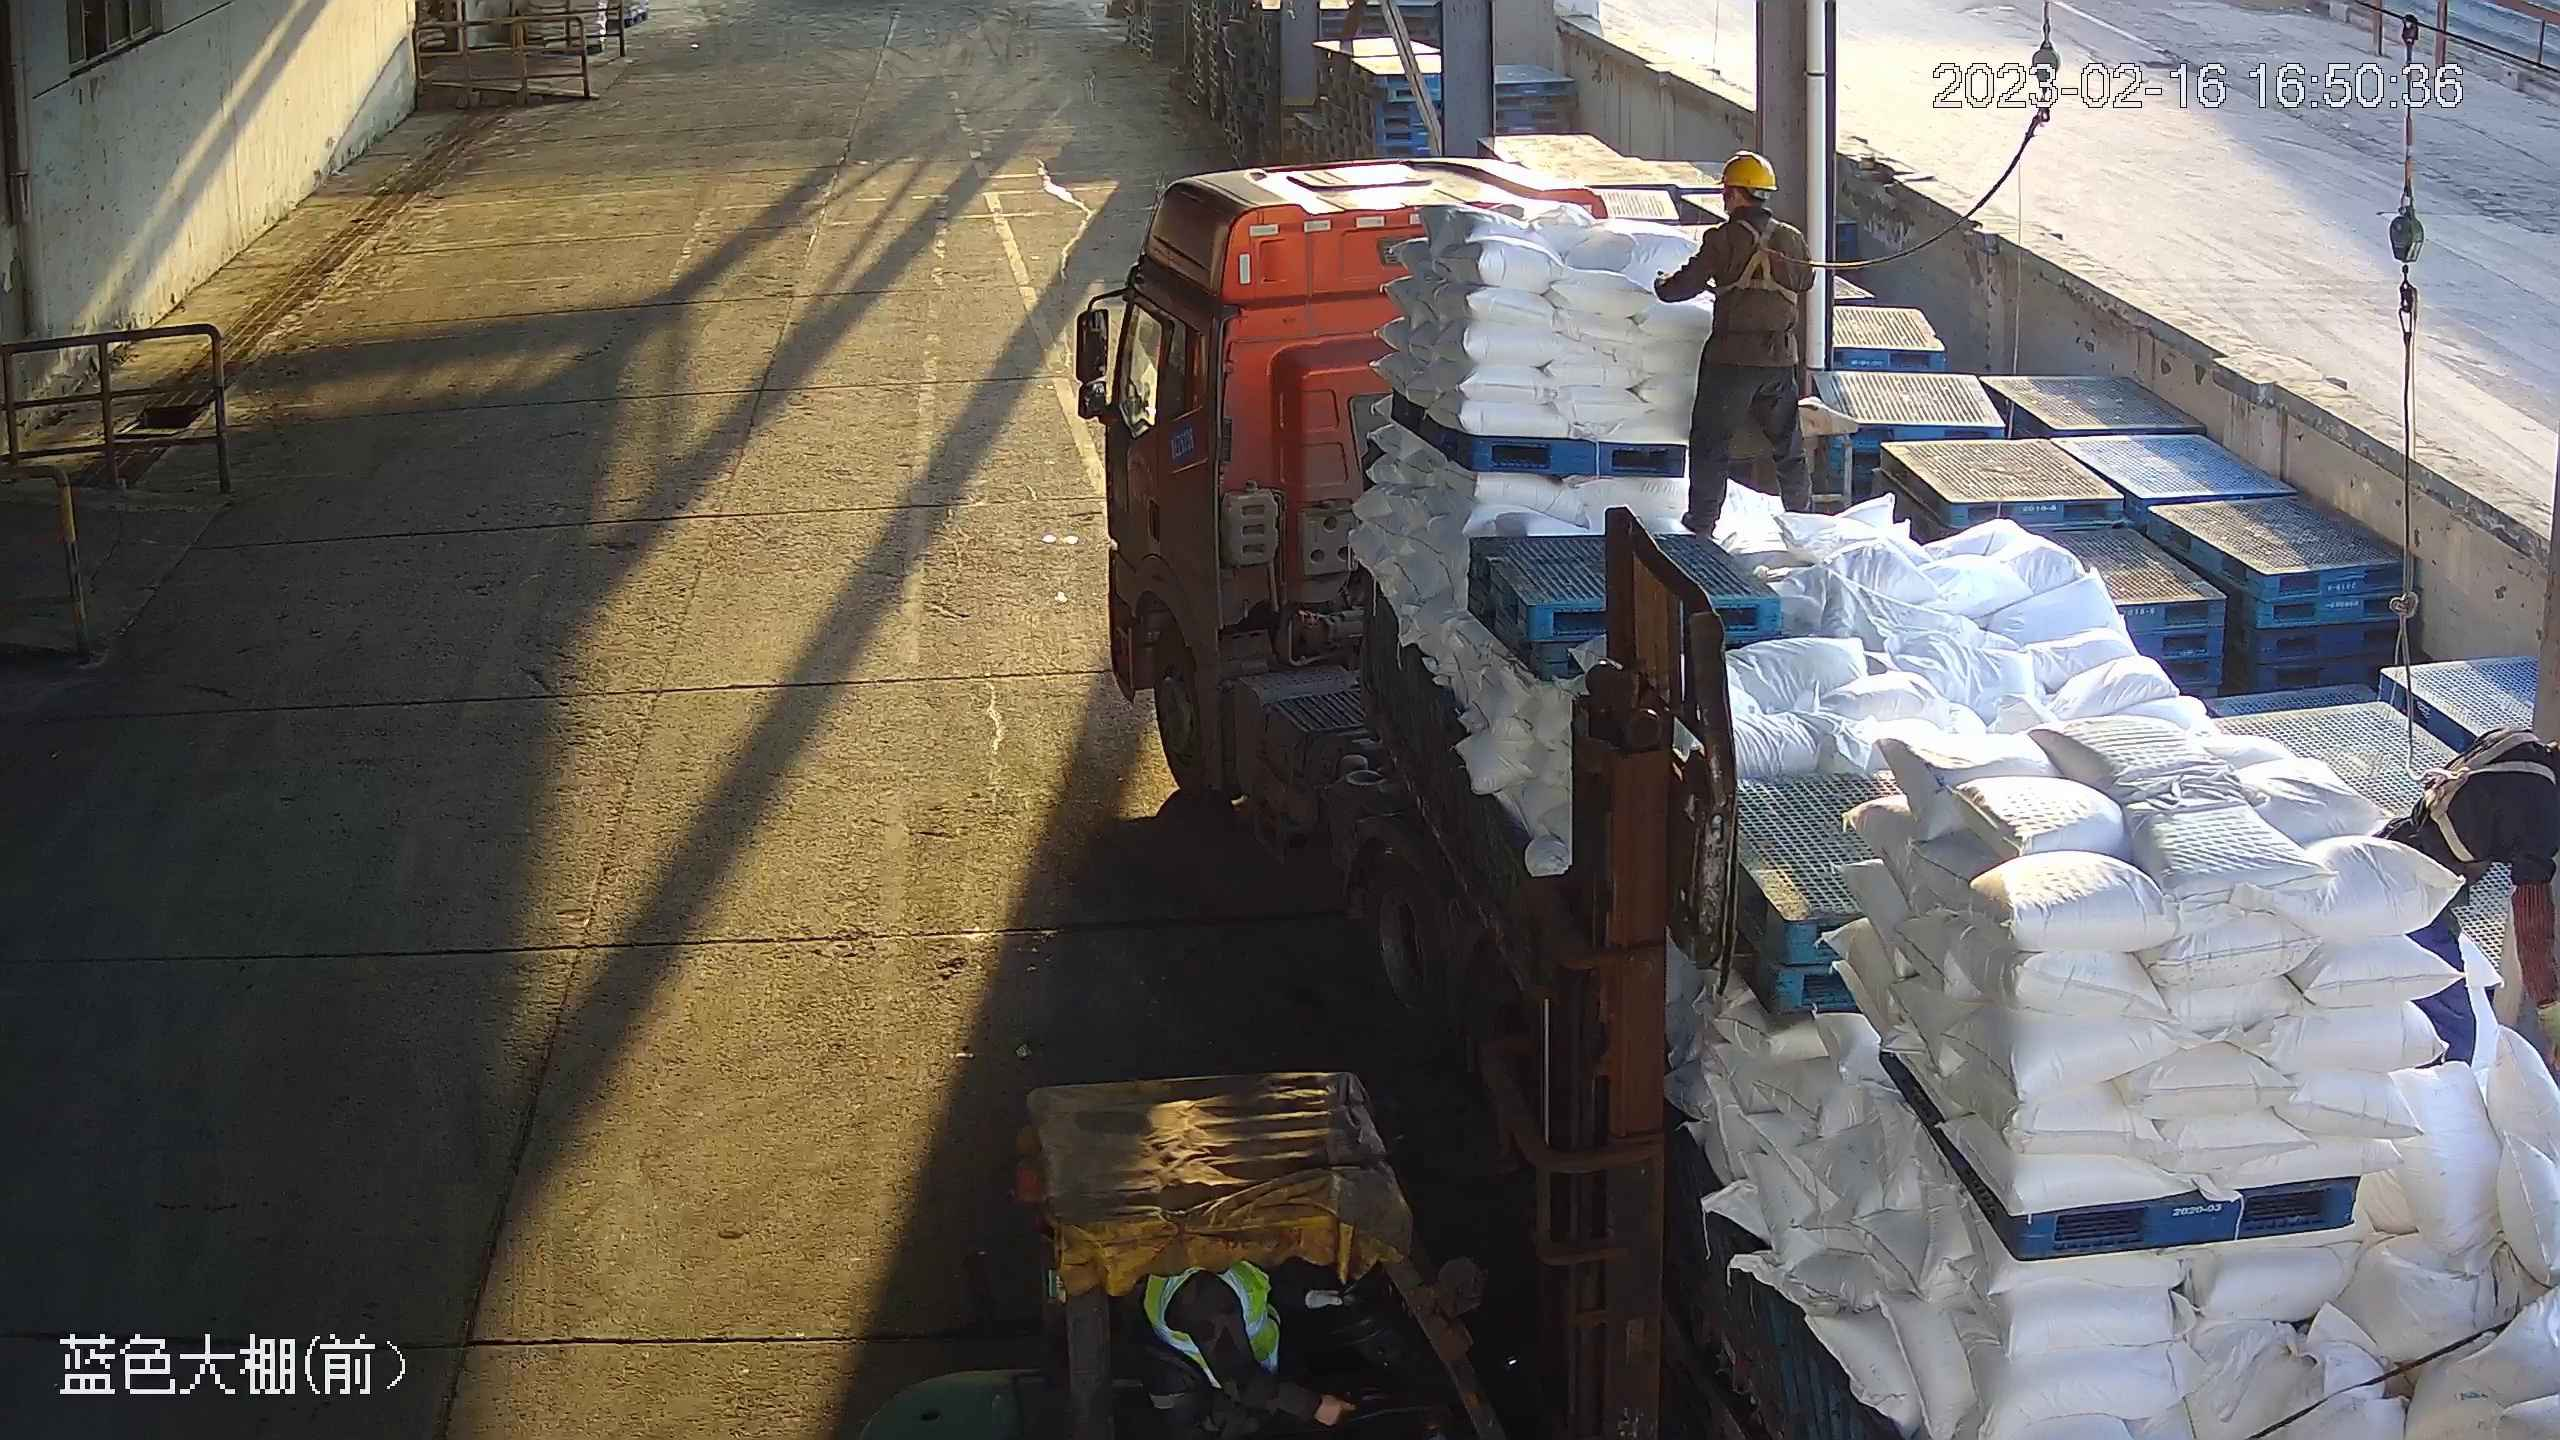belt: (2420, 730, 2556, 861), (1712, 214, 1799, 305)
head: (1698, 151, 1808, 268)
helmet: (1723, 149, 1777, 190)
people: (2370, 723, 2560, 1069), (1652, 150, 1818, 532)
truck: (1076, 159, 2560, 1440)
